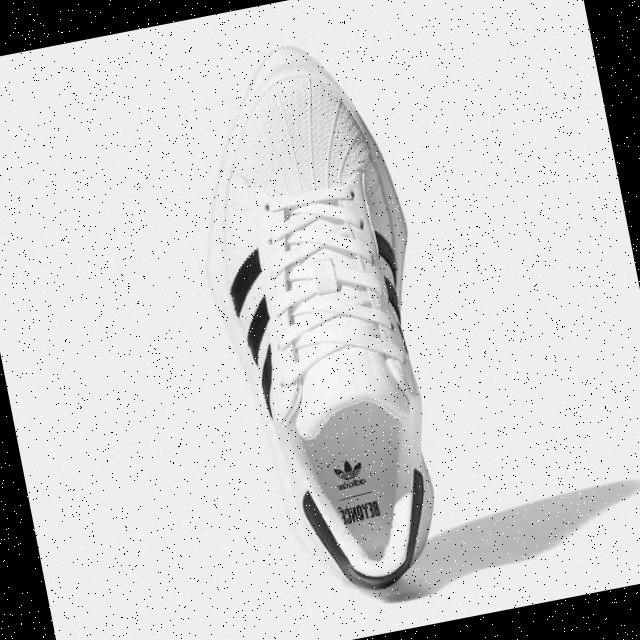Adidas: (328, 448, 376, 489)
